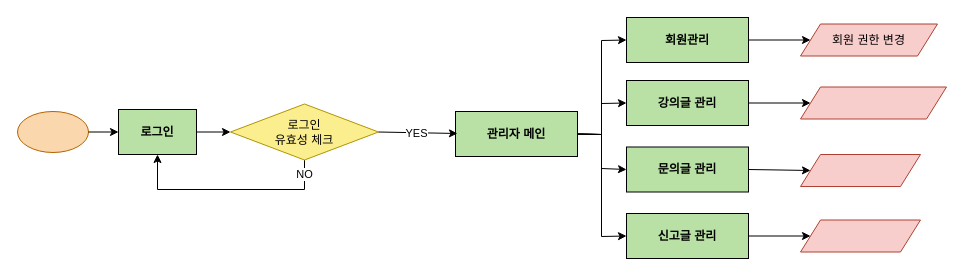
This 964x276 diagram has some shape labels left out. Each missing label, with the box of its shape:
START: (16, 110, 88, 152)
강의글 승인 /반려사유 작성: (800, 86, 946, 119)
문의 답변: (800, 154, 920, 186)
신고접수 /후기상태변경: (800, 219, 920, 252)
